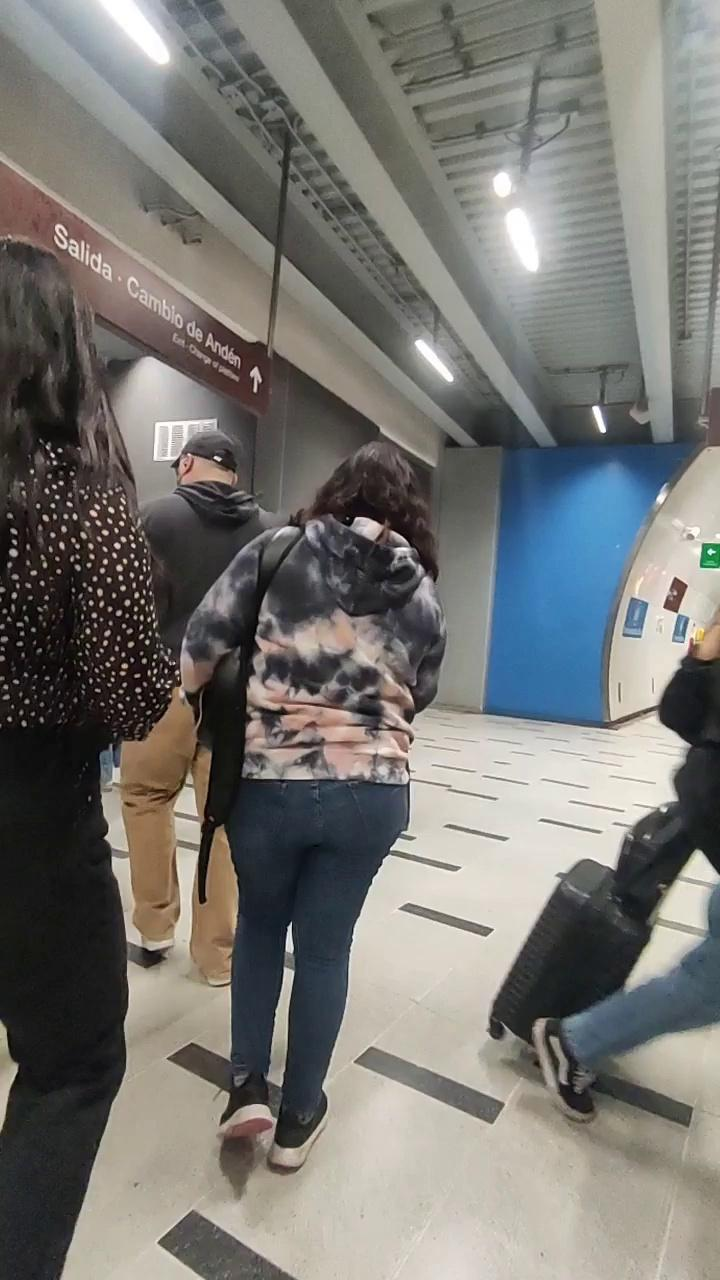up arrow: (246, 362, 264, 398)
